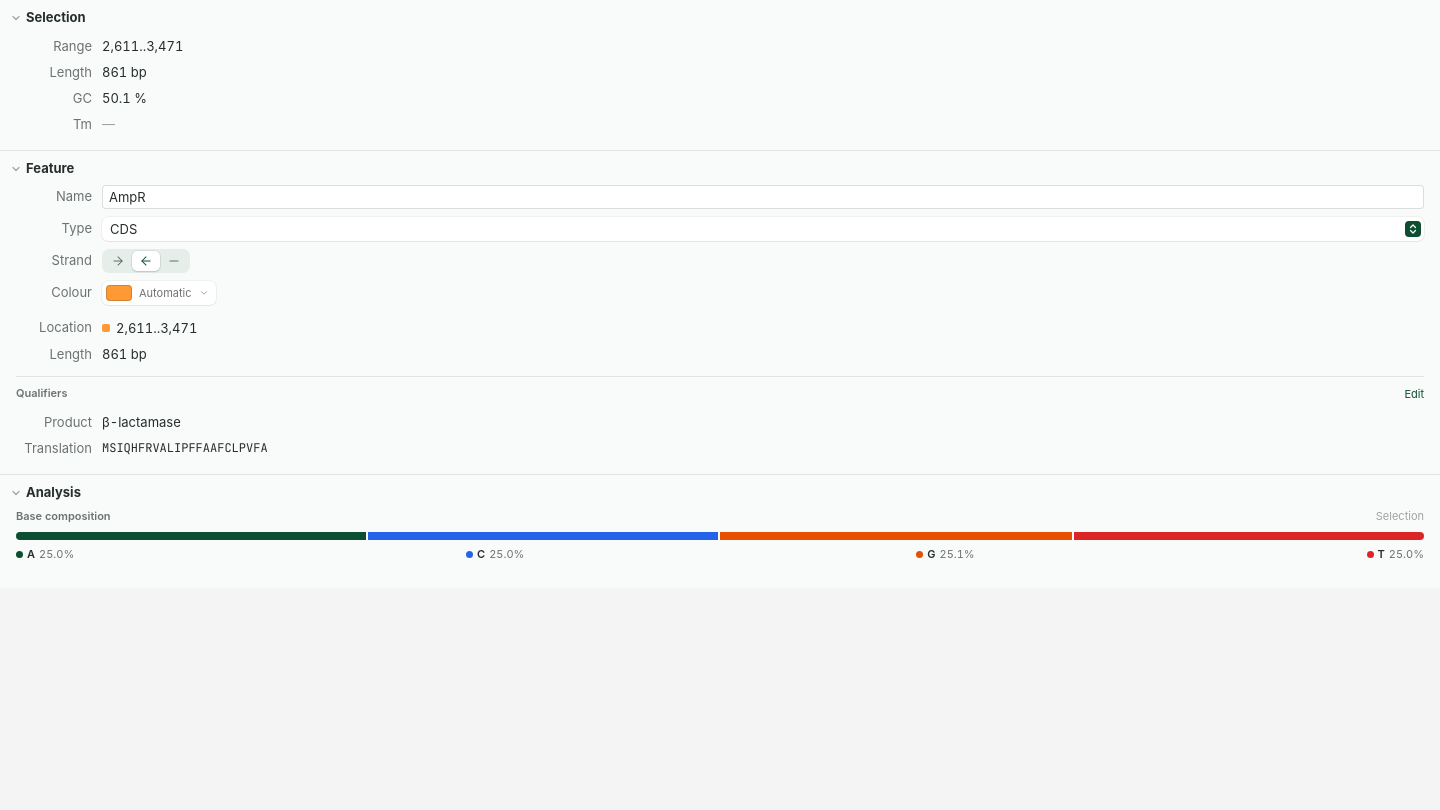
Test case: Inspector › qualifier editing › turns the list into key/value fields and commits edits as a whole list
Click the button "Edit".
click(1414, 394)  # box [1398,382,1430,406]
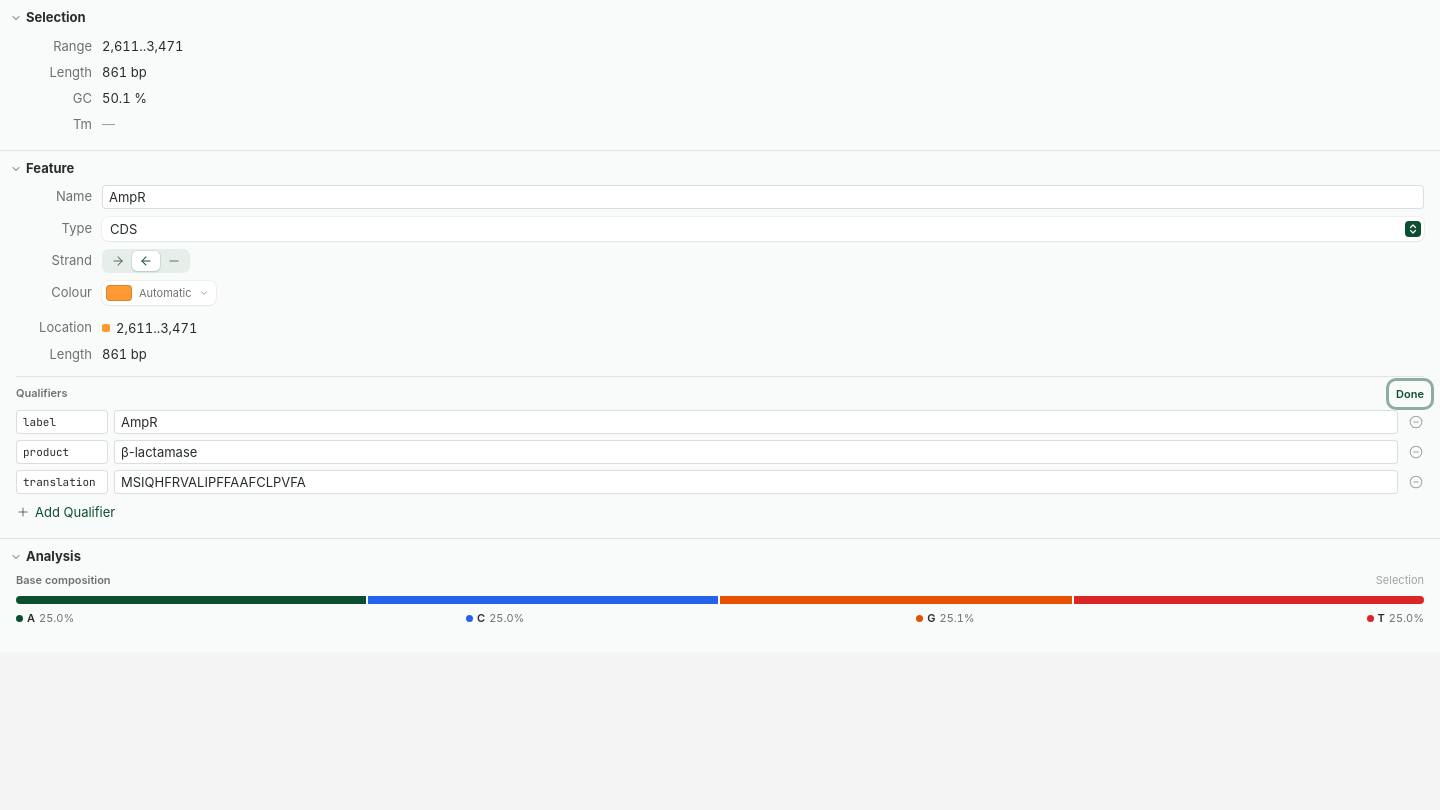
Now the field named "Key of label" holds "label", box [23,410,101,434]
Replace the text in the field named "Value of product" with "TEM-1 beta-lactamase" at (756, 452), box [121,440,1391,464]
Then press Enter
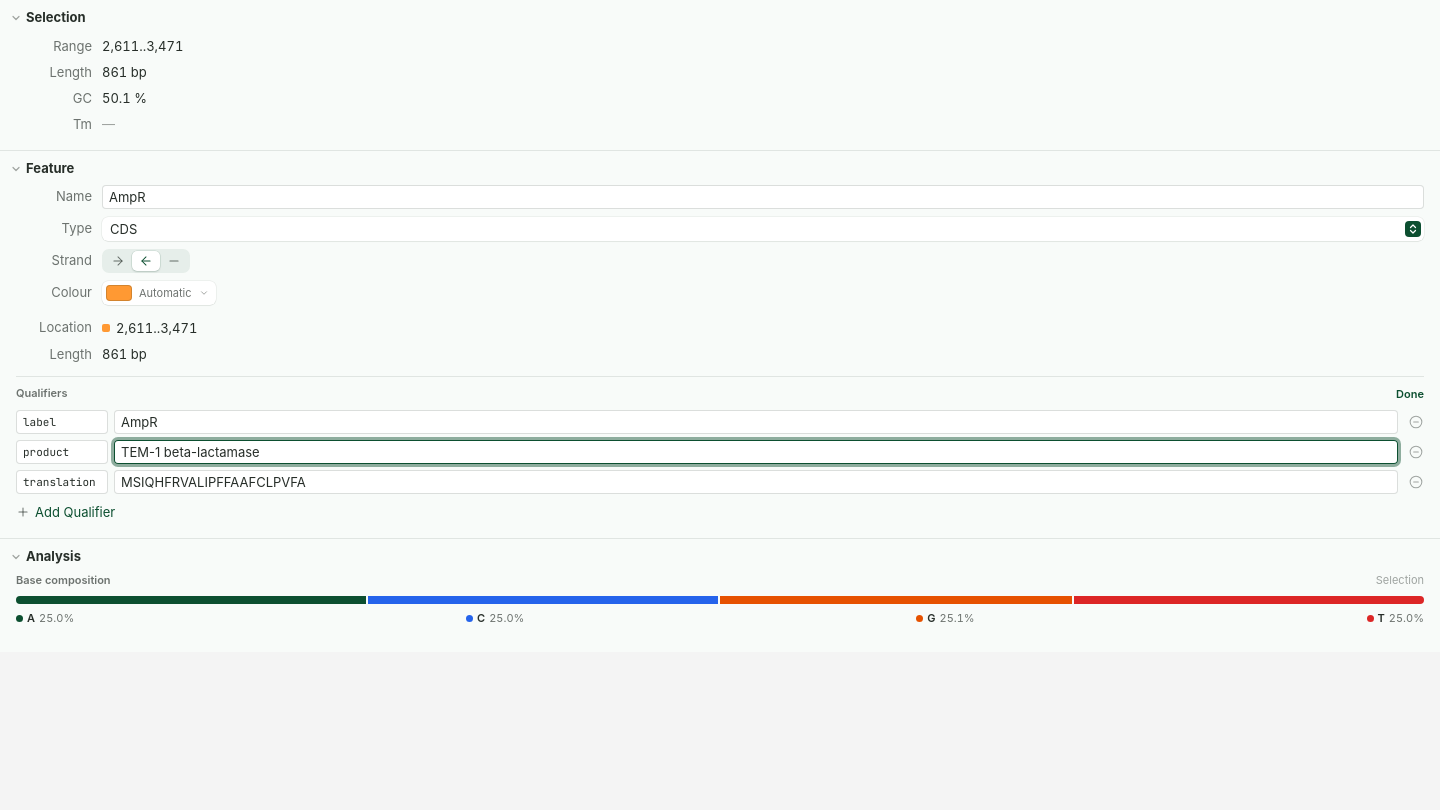
Note: Escape reverts text that is not committed yet
Type " X" into the field named "Value of product".
click(756, 452); type(" X")  # box [121,440,1391,464]
Then press Escape
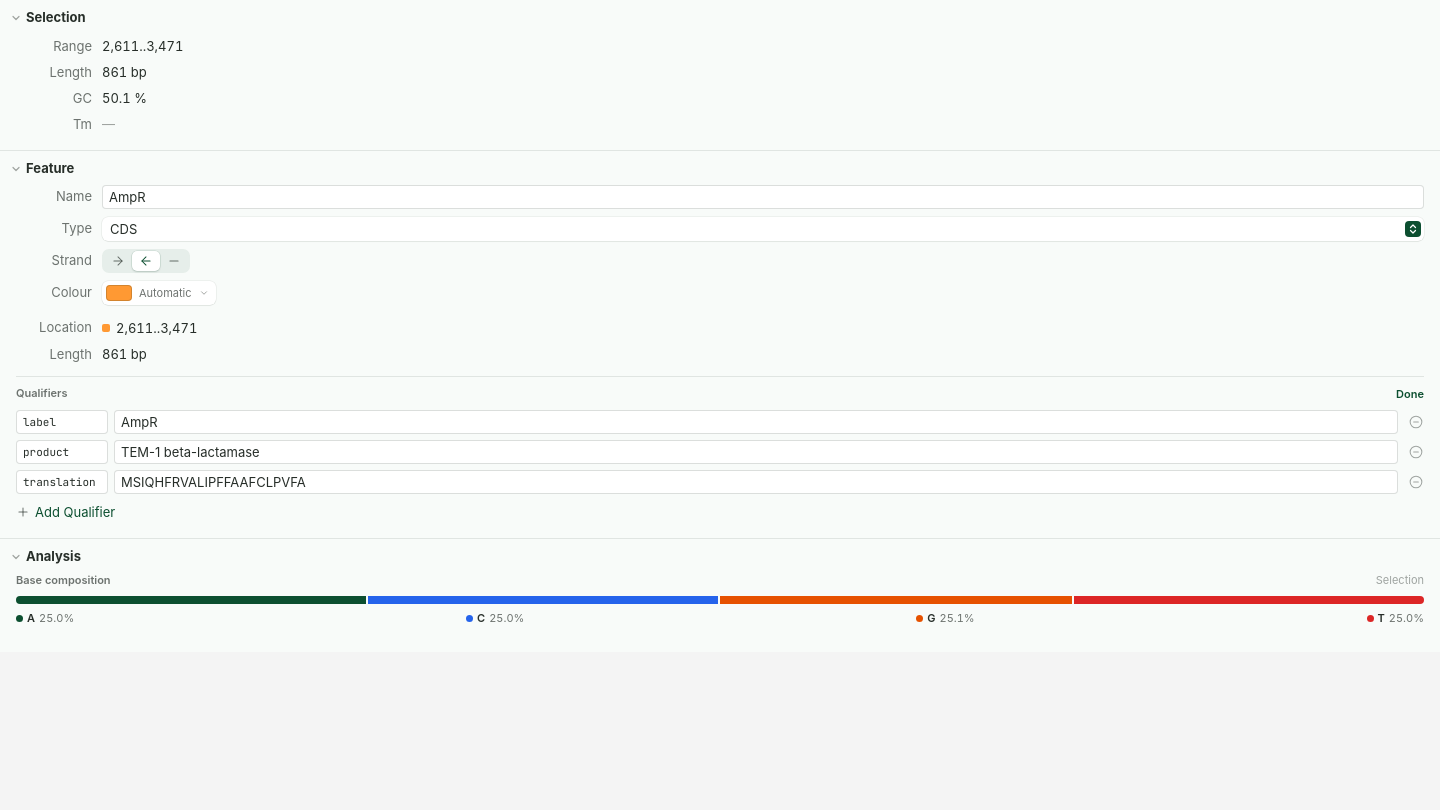
Now the field named "Value of product" holds "TEM-1 beta-lactamase", box [121,440,1391,464]
Click the button "Done".
click(1410, 394)  # box [1390,382,1430,406]
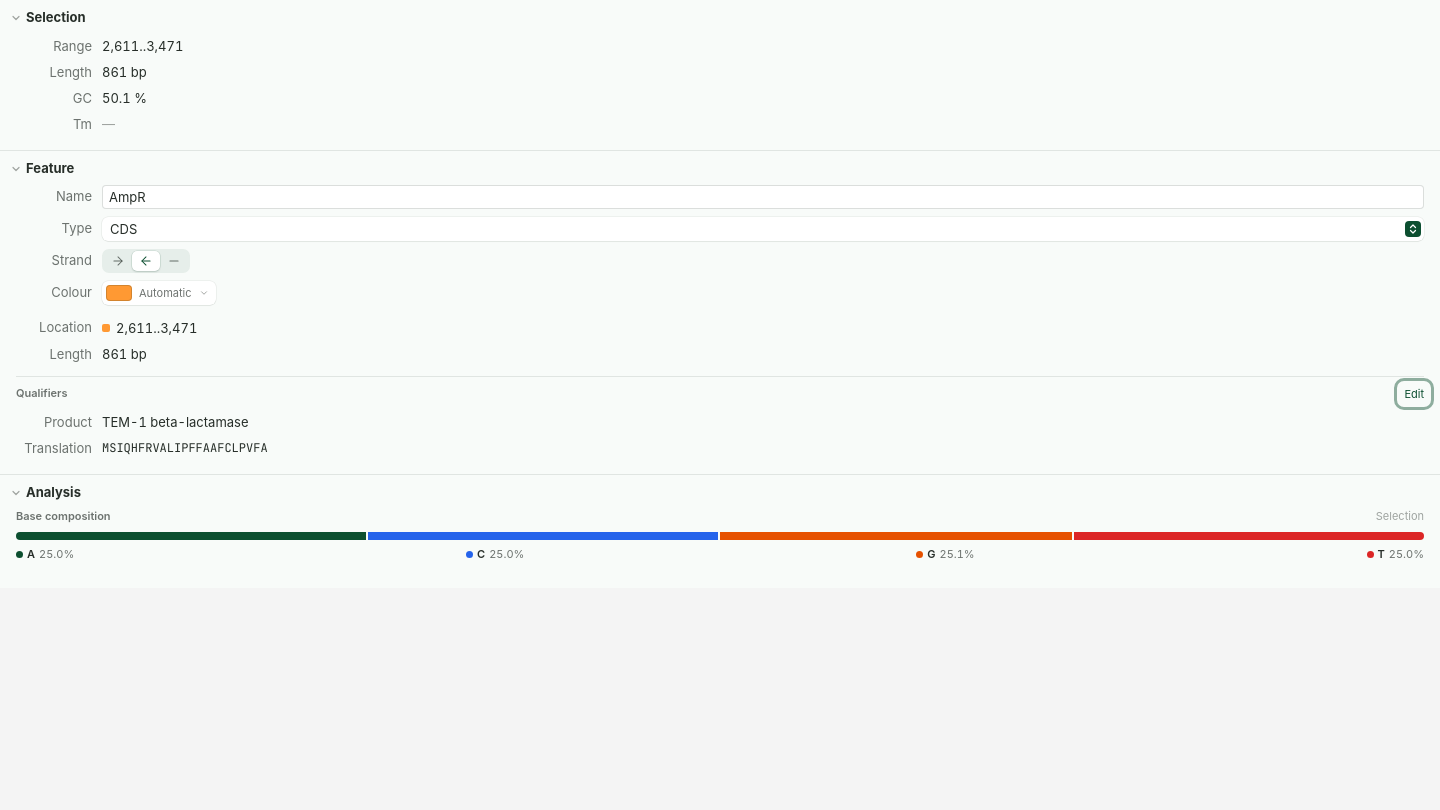
Now the text "TEM-1 beta-lactamase" is shown, box [102,414,248,430]
